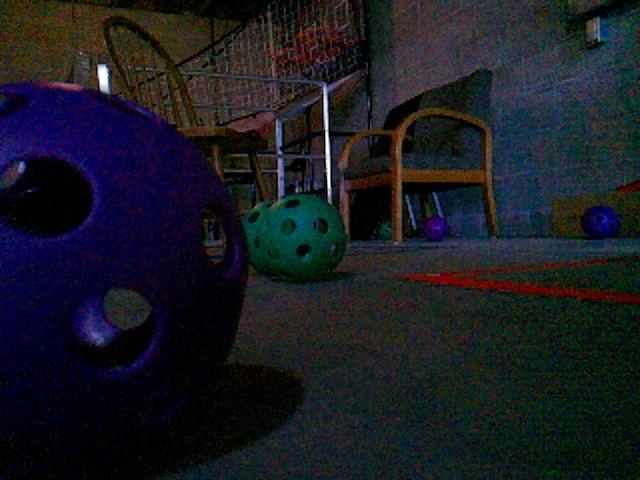Green: (0, 86, 251, 474), (260, 192, 348, 280), (245, 199, 274, 278), (373, 219, 393, 240)
Purple: (581, 205, 621, 240), (421, 216, 448, 241)
